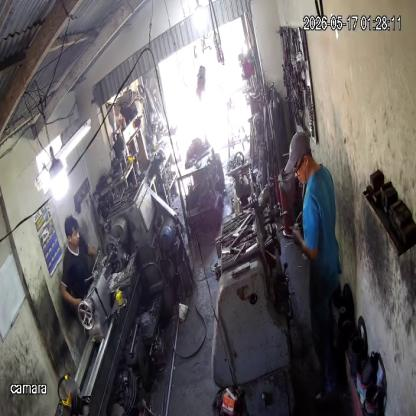lentes: (292, 155, 304, 176)
